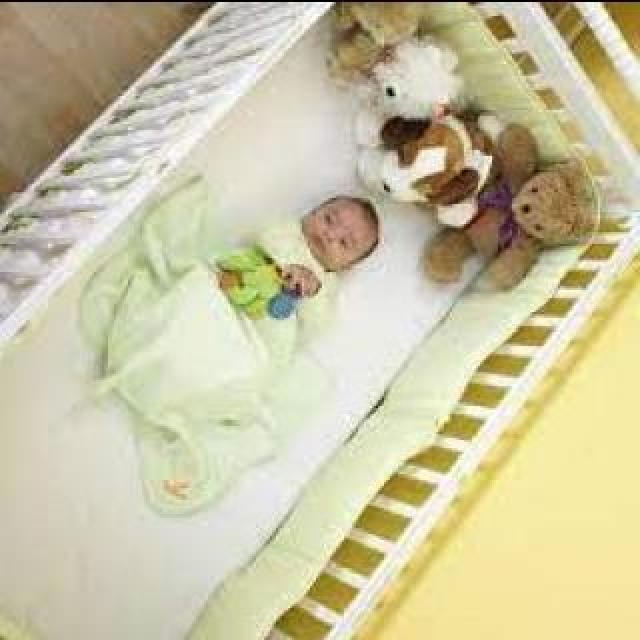baby: (130, 194, 380, 424)
